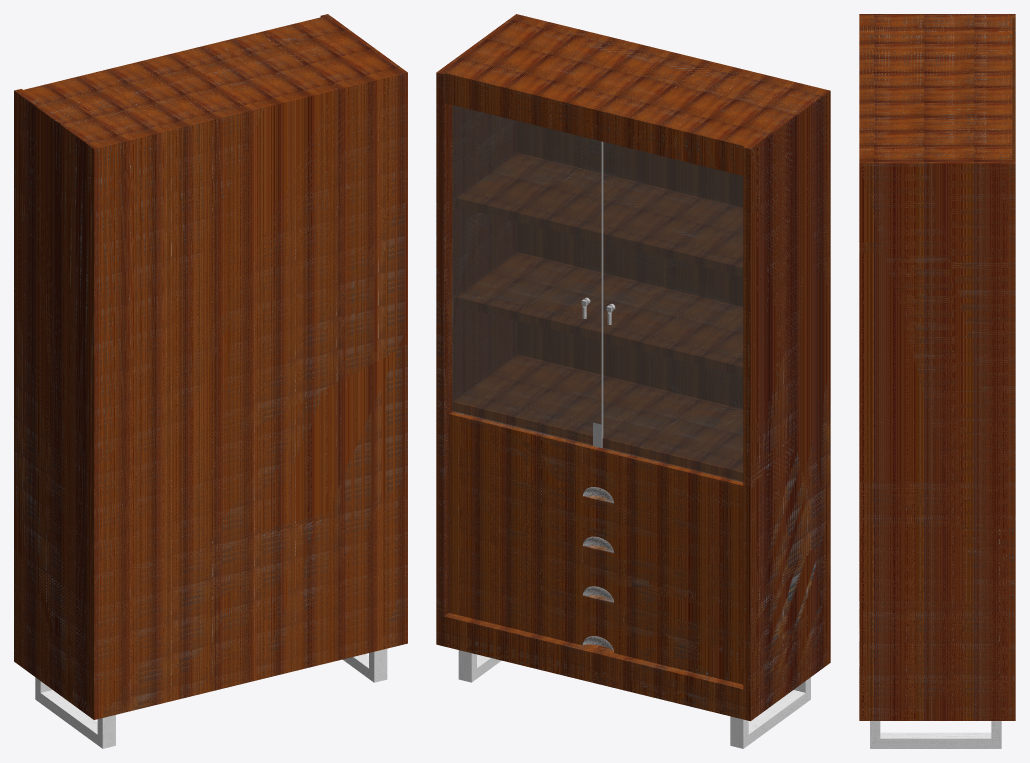
3 renders of one model, left to right at view 1: azimuth 30°, elevation 25°; view 2: azimuth 150°, elevation 25°; view 3: azimuth 270°, elevation 25°, orthographic. The views are drawn at different scales.
Parts seen in each view (by area): view 1: mesh7_mesh7-geometry, mesh5_mesh5-geometry, mesh6_mesh6-geometry; view 2: mesh7_mesh7-geometry, mesh3_mesh3-geometry, mesh15_mesh15-geometry, mesh9_mesh9-geometry, mesh13_mesh13-geometry, mesh11_mesh11-geometry, mesh5_mesh5-geometry, mesh16_mesh16-geometry, mesh6_mesh6-geometry; view 3: mesh7_mesh7-geometry, mesh6_mesh6-geometry.
Part boxes in pixels (bbox=[...]): mesh7_mesh7-geometry: bbox=[14, 14, 407, 719]; mesh5_mesh5-geometry: bbox=[35, 677, 115, 748]; mesh6_mesh6-geometry: bbox=[342, 648, 387, 682]; mesh7_mesh7-geometry: bbox=[436, 14, 830, 721]; mesh3_mesh3-geometry: bbox=[452, 105, 743, 482]; mesh15_mesh15-geometry: bbox=[448, 513, 743, 634]; mesh9_mesh9-geometry: bbox=[448, 563, 743, 684]; mesh13_mesh13-geometry: bbox=[448, 414, 743, 535]; mesh11_mesh11-geometry: bbox=[448, 464, 743, 584]; mesh5_mesh5-geometry: bbox=[730, 677, 810, 748]; mesh16_mesh16-geometry: bbox=[449, 411, 743, 485]; mesh6_mesh6-geometry: bbox=[458, 650, 501, 682]; mesh7_mesh7-geometry: bbox=[859, 14, 1015, 720]; mesh6_mesh6-geometry: bbox=[870, 721, 1001, 748].
Bounding box in the file's own units: 0.4656 × 0.8608 × 0.2054.
